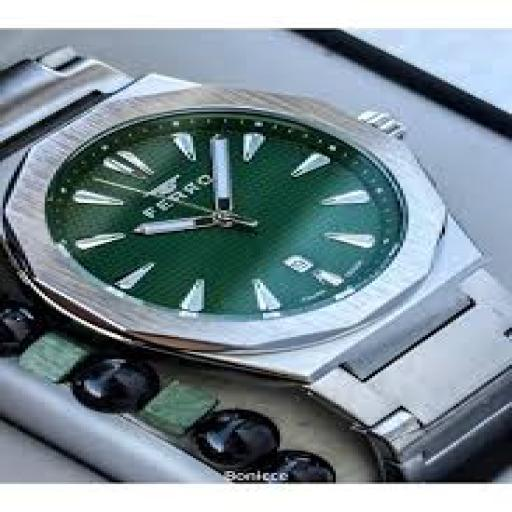KolSaati: (3, 40, 495, 458)
